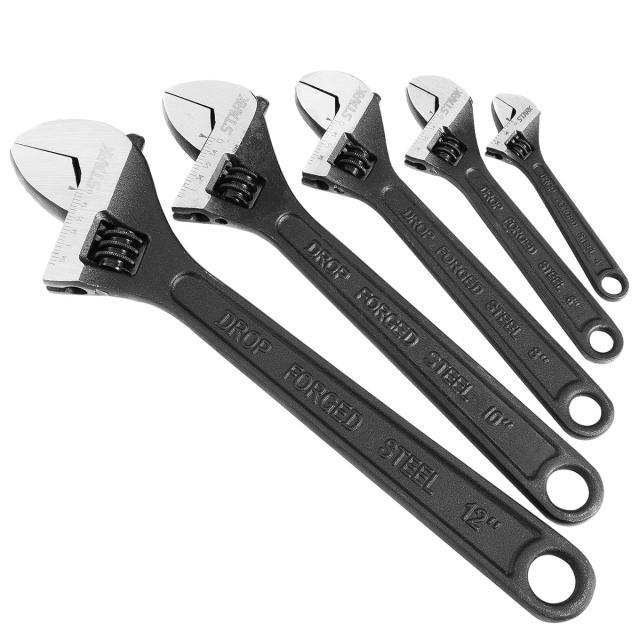wrench: (7, 112, 600, 629), (155, 75, 607, 528), (292, 68, 614, 440), (394, 70, 626, 368), (482, 88, 630, 304)
